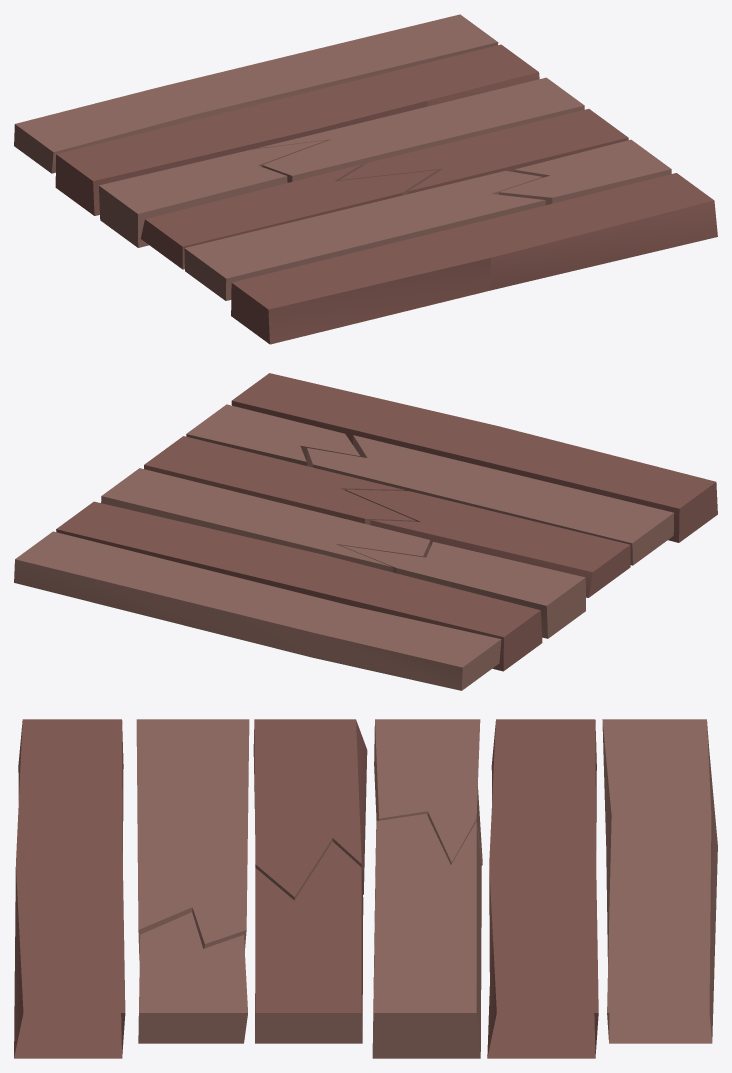
The model's file is BrokenFloor.fbx.
3 views of the same model, one above another, from view 1: azimuth 30°, elevation 25°; view 2: azimuth 150°, elevation 25°; view 3: azimuth 270°, elevation 25° (orthographic). The views are drawn at different scales.
Visible parts, largest first — view 1: BrokenFloor, Planks_053__1__detach, Planks_053__1__detach_4, Planks_053__1__detach_3, Planks_053__1__detach_2, Planks_053__1__detach_5, Planks_053__1__detach_1; view 2: BrokenFloor, Planks_053__1__detach, Planks_053__1__detach_4, Planks_053__1__detach_3, Planks_053__1__detach_2, Planks_053__1__detach_5, Planks_053__1__detach_1; view 3: BrokenFloor, Planks_053__1__detach_4, Planks_053__1__detach, Planks_053__1__detach_2, Planks_053__1__detach_3, Planks_053__1__detach_1, Planks_053__1__detach_5.
Boxes of the visible parts, x1=… form: BrokenFloor: x1=14, y1=14, x2=717, y2=344; Planks_053__1__detach: x1=184, y1=170, x2=545, y2=300; Planks_053__1__detach_4: x1=255, y1=77, x2=584, y2=182; Planks_053__1__detach_3: x1=140, y1=164, x2=437, y2=269; Planks_053__1__detach_2: x1=339, y1=109, x2=628, y2=193; Planks_053__1__detach_5: x1=99, y1=140, x2=327, y2=247; Planks_053__1__detach_1: x1=498, y1=139, x2=671, y2=204; BrokenFloor: x1=14, y1=373, x2=717, y2=690; Planks_053__1__detach: x1=307, y1=435, x2=674, y2=565; Planks_053__1__detach_4: x1=101, y1=468, x2=430, y2=572; Planks_053__1__detach_3: x1=345, y1=489, x2=630, y2=597; Planks_053__1__detach_2: x1=144, y1=436, x2=415, y2=524; Planks_053__1__detach_5: x1=339, y1=541, x2=585, y2=638; Planks_053__1__detach_1: x1=186, y1=404, x2=360, y2=465; BrokenFloor: x1=14, y1=719, x2=717, y2=1058; Planks_053__1__detach_4: x1=372, y1=813, x2=481, y2=1058; Planks_053__1__detach: x1=136, y1=719, x2=249, y2=960; Planks_053__1__detach_2: x1=255, y1=841, x2=363, y2=1043; Planks_053__1__detach_3: x1=253, y1=719, x2=367, y2=900; Planks_053__1__detach_1: x1=138, y1=912, x2=247, y2=1043; Planks_053__1__detach_5: x1=374, y1=719, x2=482, y2=865.
Size of the model in its own units: 557 by 40.4 by 564.
